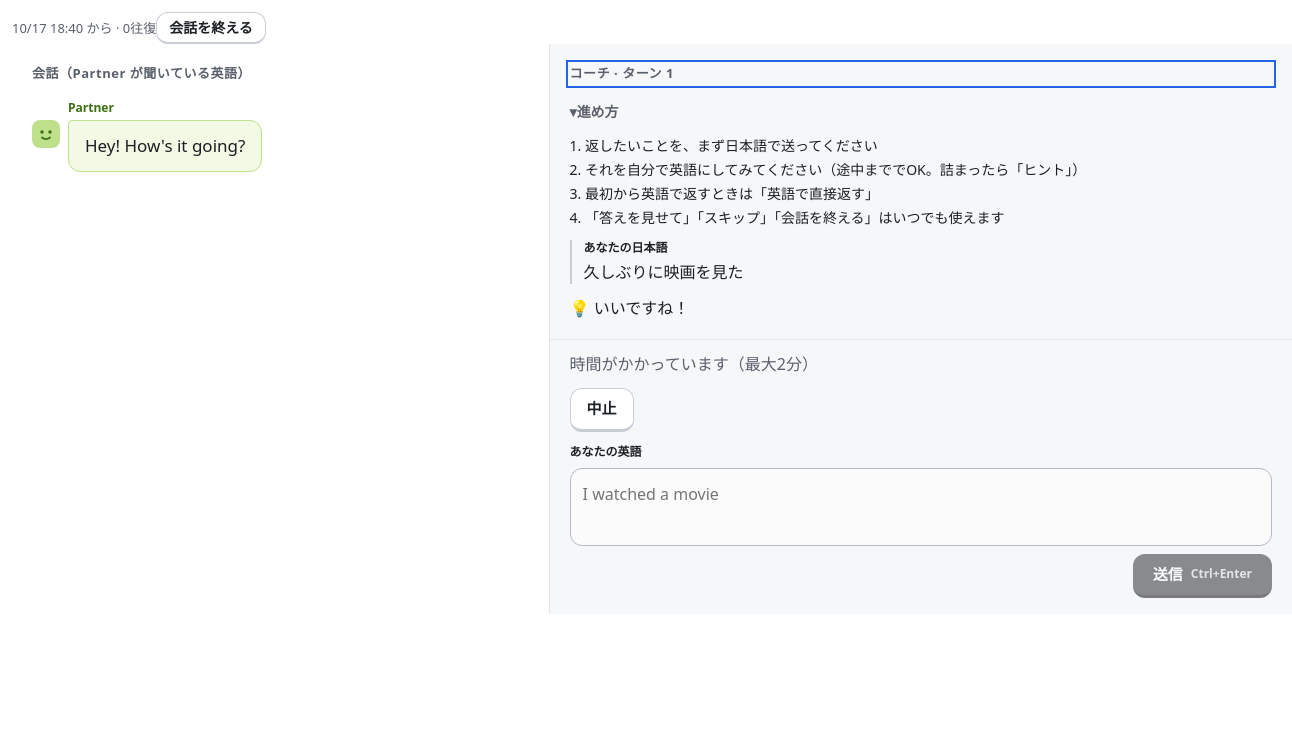
ConversationScreen pending from elsewhere (REQ-009) › offers 中止 at 10 s, cancels the view's version, and returns the submitted text
This screenshot has width=1292, height=732.
Expected: the text "時間がかかっています（最大2分）" is shown, [570,352,818,374]
Click the button "中止": (602, 410) [570,388,634,432]
Wait 6000 ms
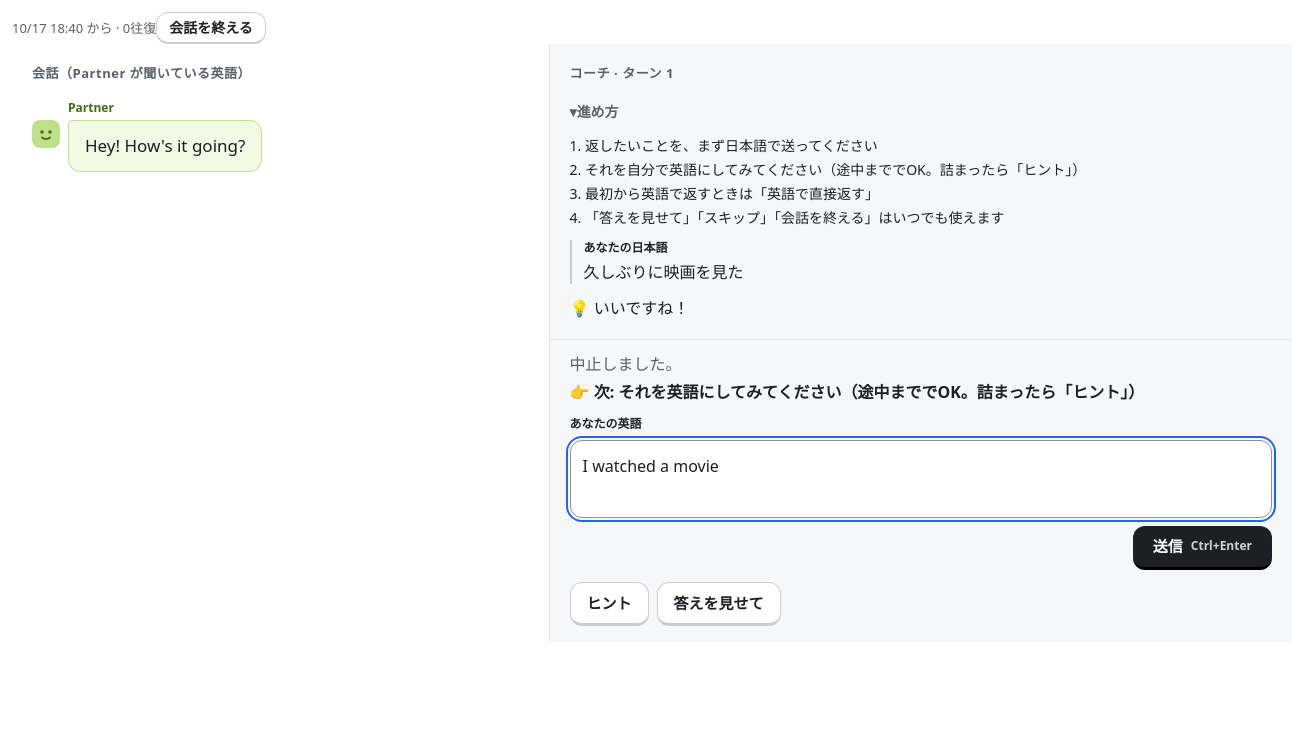
Expected: the text box labelled "あなたの英語" holds "I watched a movie", [570,440,1272,518]
Result: the text "中止しました。" is shown at [570,352,682,374]
Result: the text box labelled "あなたの英語" is enabled at [570,440,1272,518]
